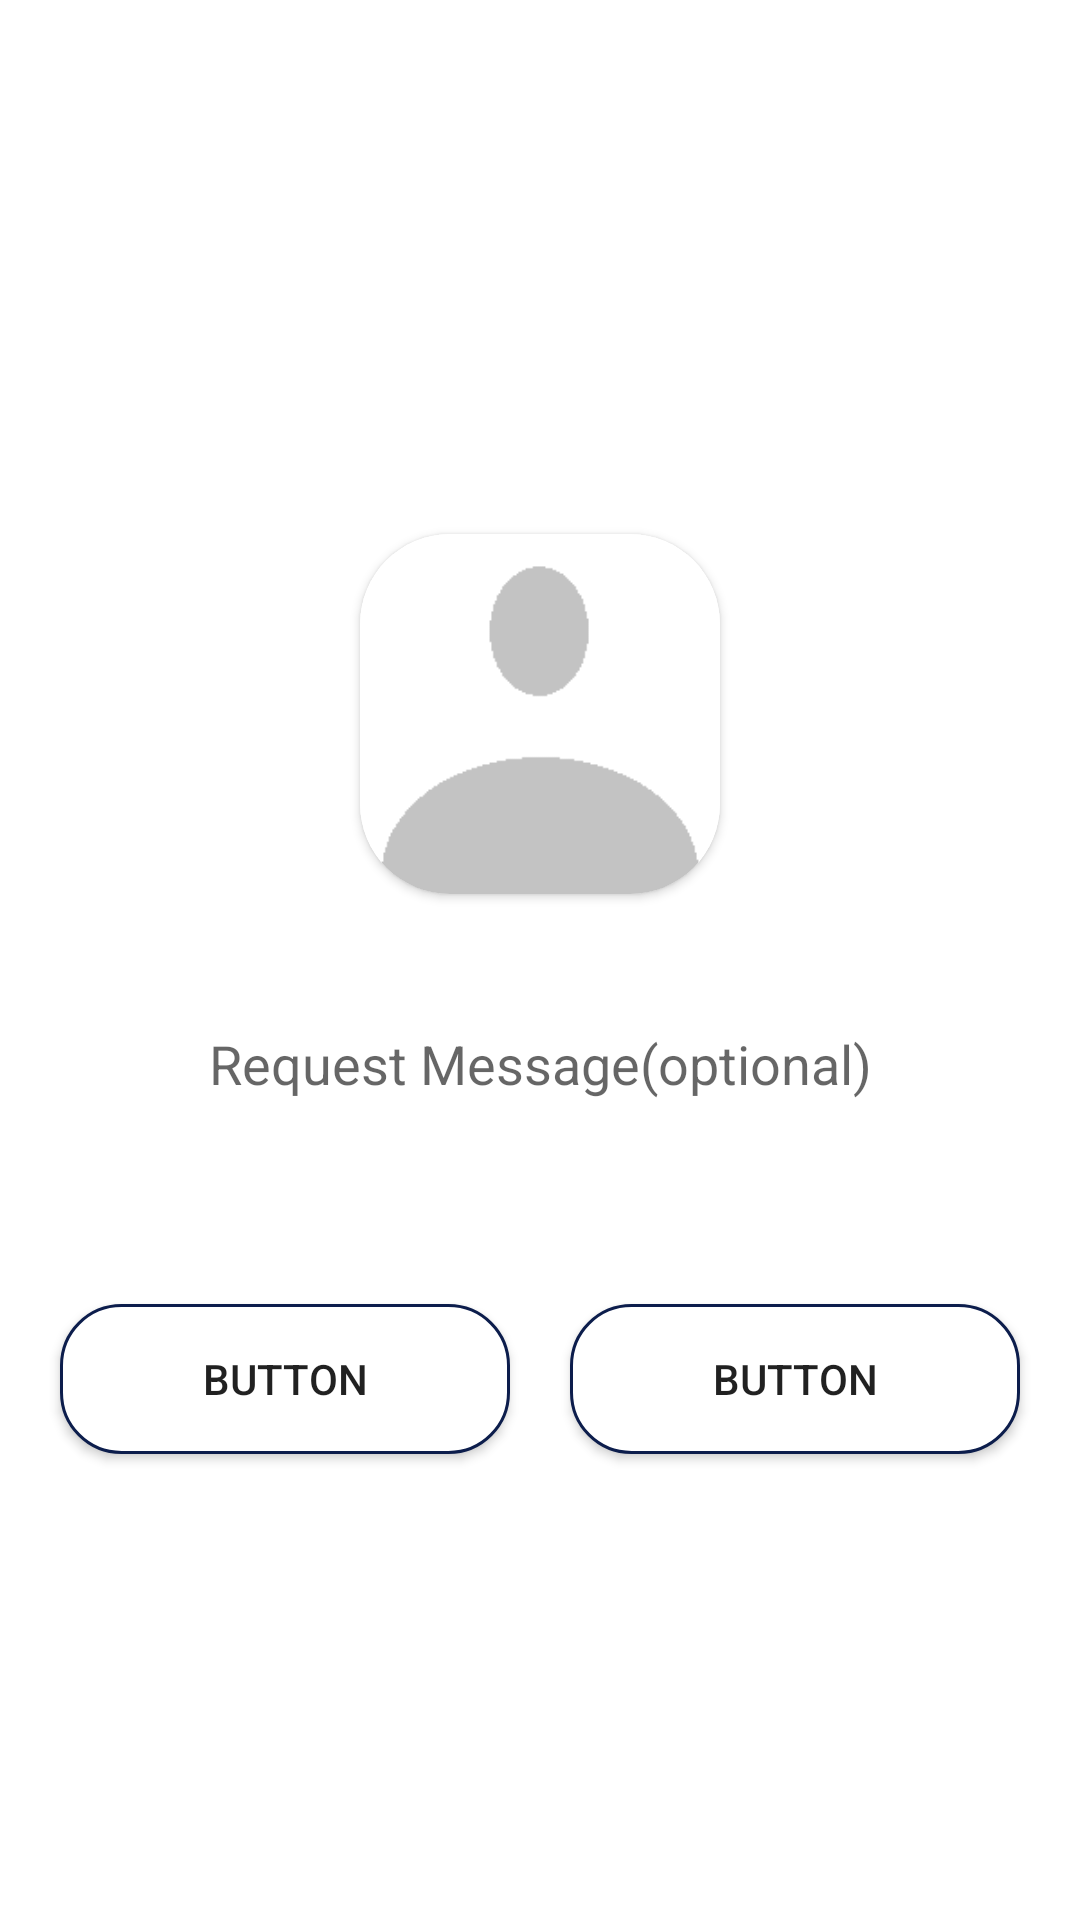

Where to tap for icons on this 1080px x 1920px app screen, as [x,y]:
profile: [540,730]
